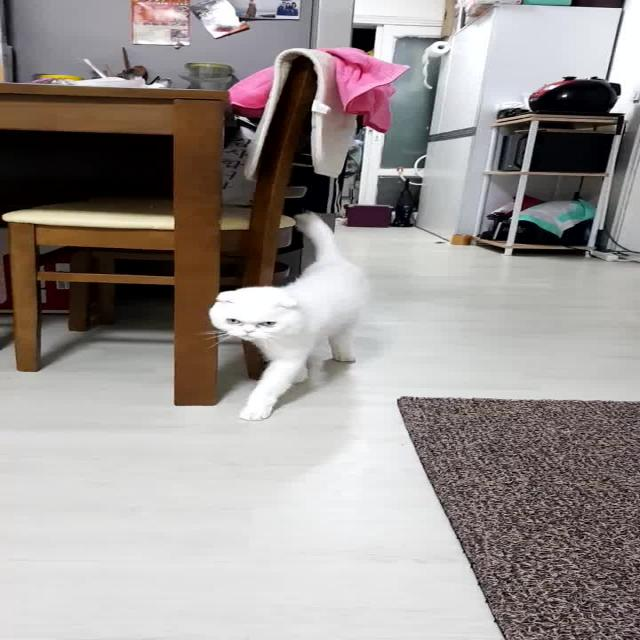cat: (214, 204, 375, 422)
